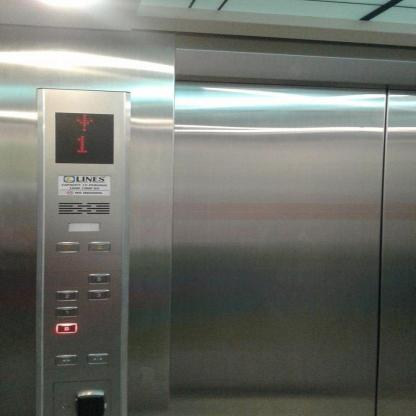1: (54, 306, 79, 318)
2: (55, 290, 79, 301)
3: (85, 288, 111, 300)
5: (86, 272, 110, 284)
B: (52, 322, 78, 334)
alarm: (86, 240, 111, 252)
blur: (54, 241, 80, 253)
close: (84, 352, 110, 365)
keyhole: (57, 402, 69, 410)
led: (52, 110, 116, 164)
open: (53, 354, 78, 366)
